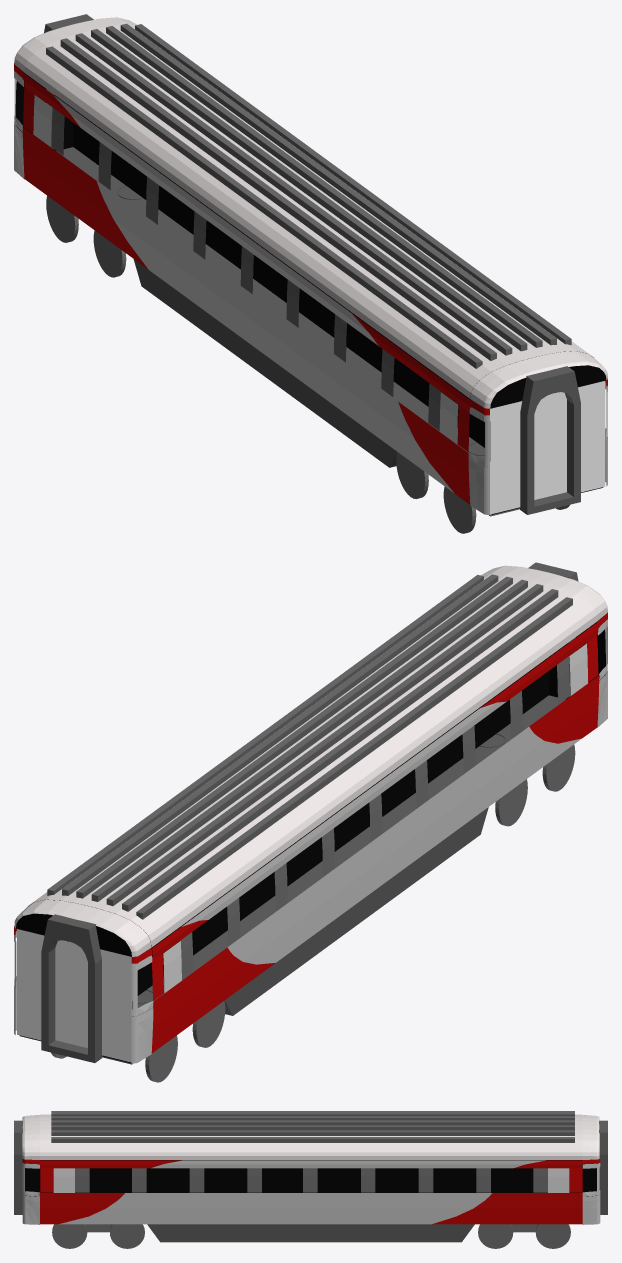
The model's file is br-mk3-to-vtec.dae.
The picture shows the model from 3 angles, top to bottom: view 1: azimuth 30°, elevation 25°; view 2: azimuth 150°, elevation 25°; view 3: azimuth 270°, elevation 25°; orthographic projection. The views are drawn at different scales.
Visible parts, largest first — view 1: Suzanne_001, Plane_007, Plane_001, Plane_111, Cube, Cube_010, Cube_011, Cube_008, Cube_009, Cube_004, Plane_002, Cube_002 (+15 smaller); view 2: Suzanne_001, Plane_007, Plane_100, Plane_111, Cube, Cube_010, Cube_011, Cube_008, Cube_009, Cube_004, Plane_002, Cube_002 (+15 smaller); view 3: Plane_035, Suzanne_001, Plane_111, Cube, Cube_002, Cube_003, Cube_004, Cube_008, Plane_034, Plane_033, Plane_032, Cube_009 (+28 smaller).
Boxes of the visible parts, bbox=[...] form: Suzanne_001: bbox=[24, 24, 593, 398]; Plane_007: bbox=[23, 140, 470, 504]; Plane_001: bbox=[490, 381, 605, 514]; Plane_111: bbox=[73, 109, 484, 447]; Cube: bbox=[133, 259, 396, 467]; Cube_010: bbox=[60, 38, 496, 360]; Cube_011: bbox=[46, 46, 482, 368]; Cube_008: bbox=[91, 29, 527, 351]; Cube_009: bbox=[75, 33, 512, 355]; Cube_004: bbox=[106, 26, 542, 347]; Plane_002: bbox=[56, 147, 489, 468]; Cube_002: bbox=[120, 23, 556, 345]; Suzanne_001: bbox=[28, 573, 596, 947]; Plane_007: bbox=[151, 688, 598, 1053]; Plane_100: bbox=[17, 929, 132, 1062]; Plane_111: bbox=[135, 657, 548, 995]; Cube: bbox=[224, 807, 488, 1015]; Cube_010: bbox=[122, 589, 558, 911]; Cube_011: bbox=[136, 597, 572, 919]; Cube_008: bbox=[91, 579, 527, 901]; Cube_009: bbox=[106, 584, 543, 906]; Cube_004: bbox=[76, 576, 512, 898]; Plane_002: bbox=[133, 695, 565, 1016]; Cube_002: bbox=[62, 574, 498, 895]; Plane_035: bbox=[40, 1200, 582, 1224]; Suzanne_001: bbox=[40, 1114, 582, 1159]; Plane_111: bbox=[25, 1159, 596, 1196]; Cube: bbox=[147, 1224, 474, 1242]; Cube_002: bbox=[51, 1130, 574, 1135]; Cube_003: bbox=[51, 1137, 574, 1142]; Cube_004: bbox=[51, 1125, 574, 1130]; Cube_008: bbox=[51, 1120, 574, 1125]; Plane_034: bbox=[38, 1160, 582, 1164]; Plane_033: bbox=[40, 1196, 582, 1200]; Plane_032: bbox=[40, 1164, 581, 1168]; Cube_009: bbox=[51, 1116, 574, 1120].
Size of the model in its own units: 2.08 by 13.39 by 2.81.
